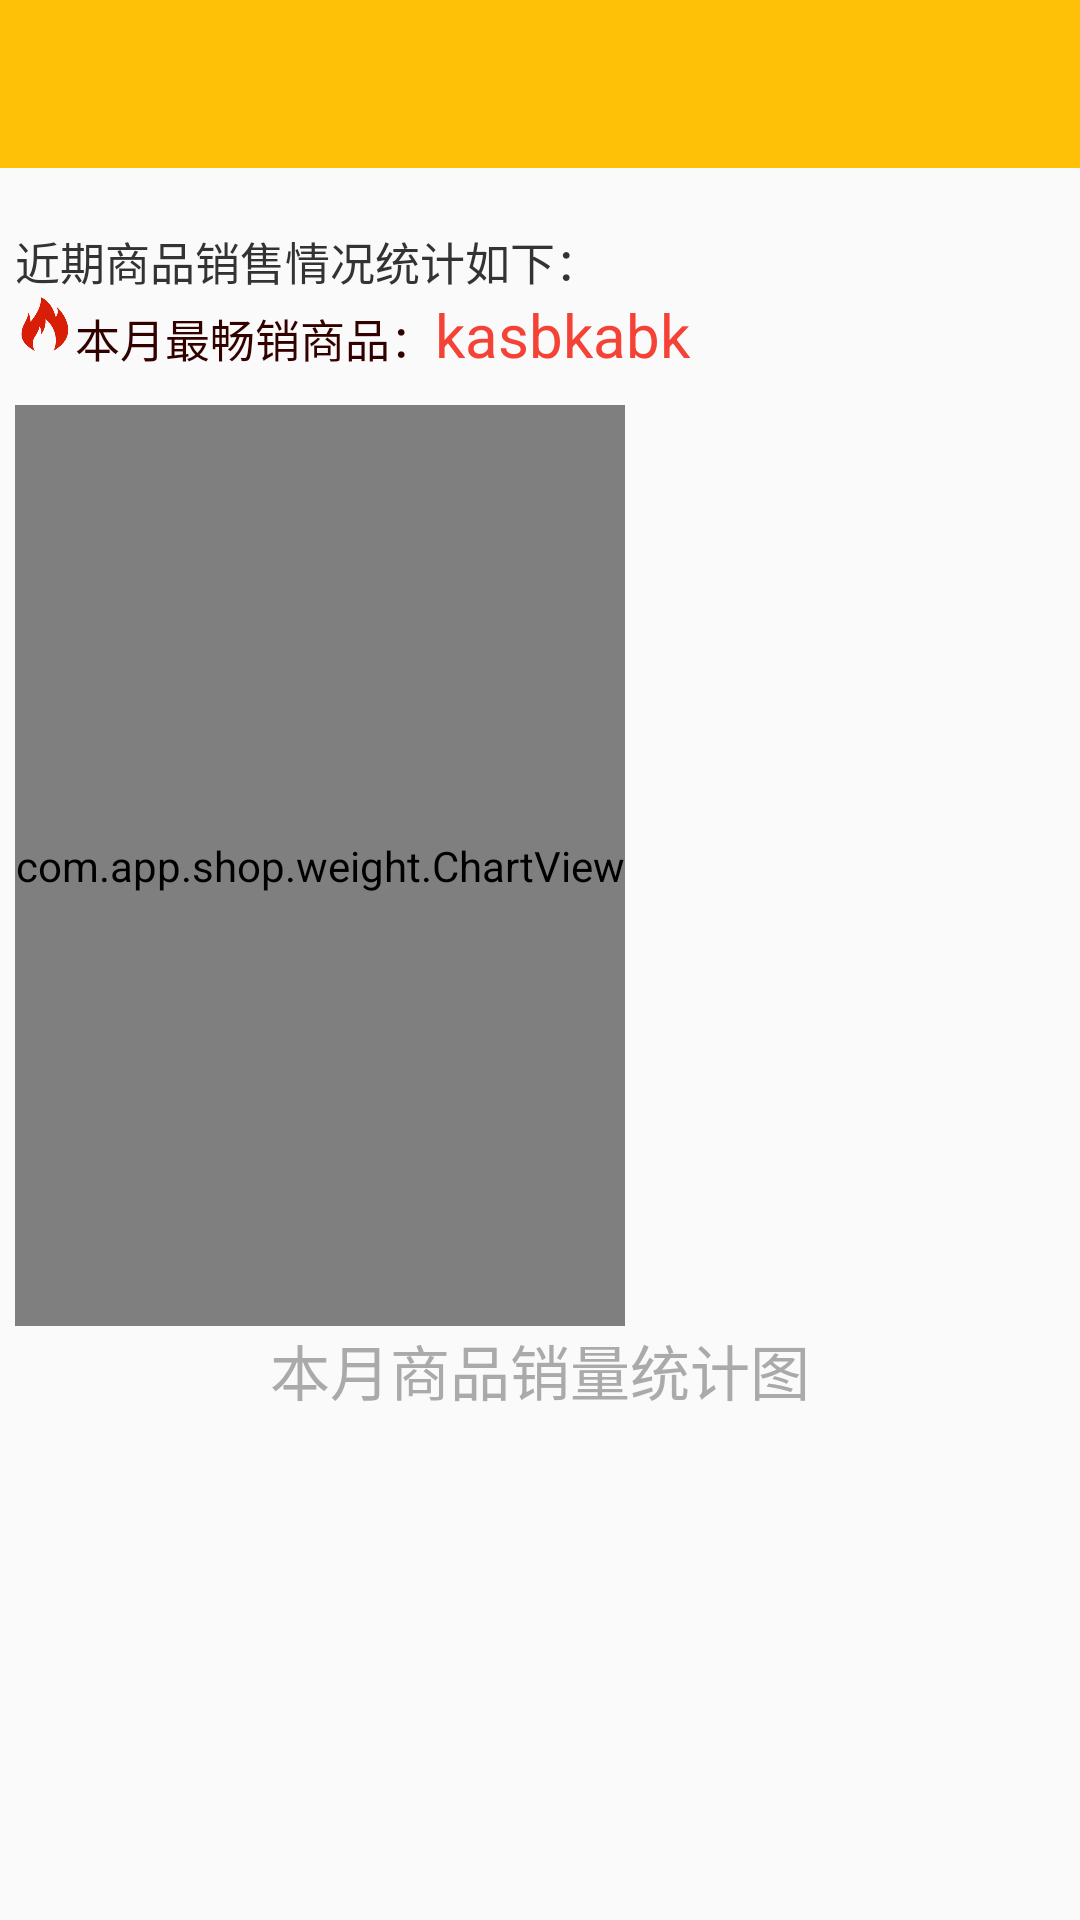

Where to tap for icons on this 1080 × 1920 app screen, as [x,y]:
fire: [44,324]
